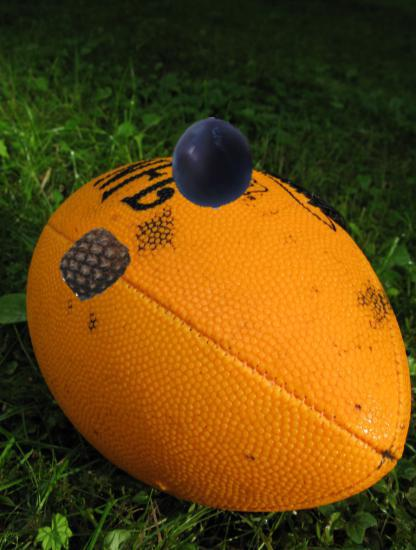Pineapple: (60, 228, 130, 298)
Plum: (166, 117, 259, 210)
